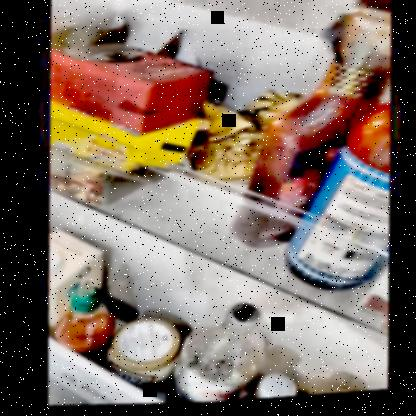butter: (43, 102, 157, 205)
milk: (45, 229, 100, 300)
